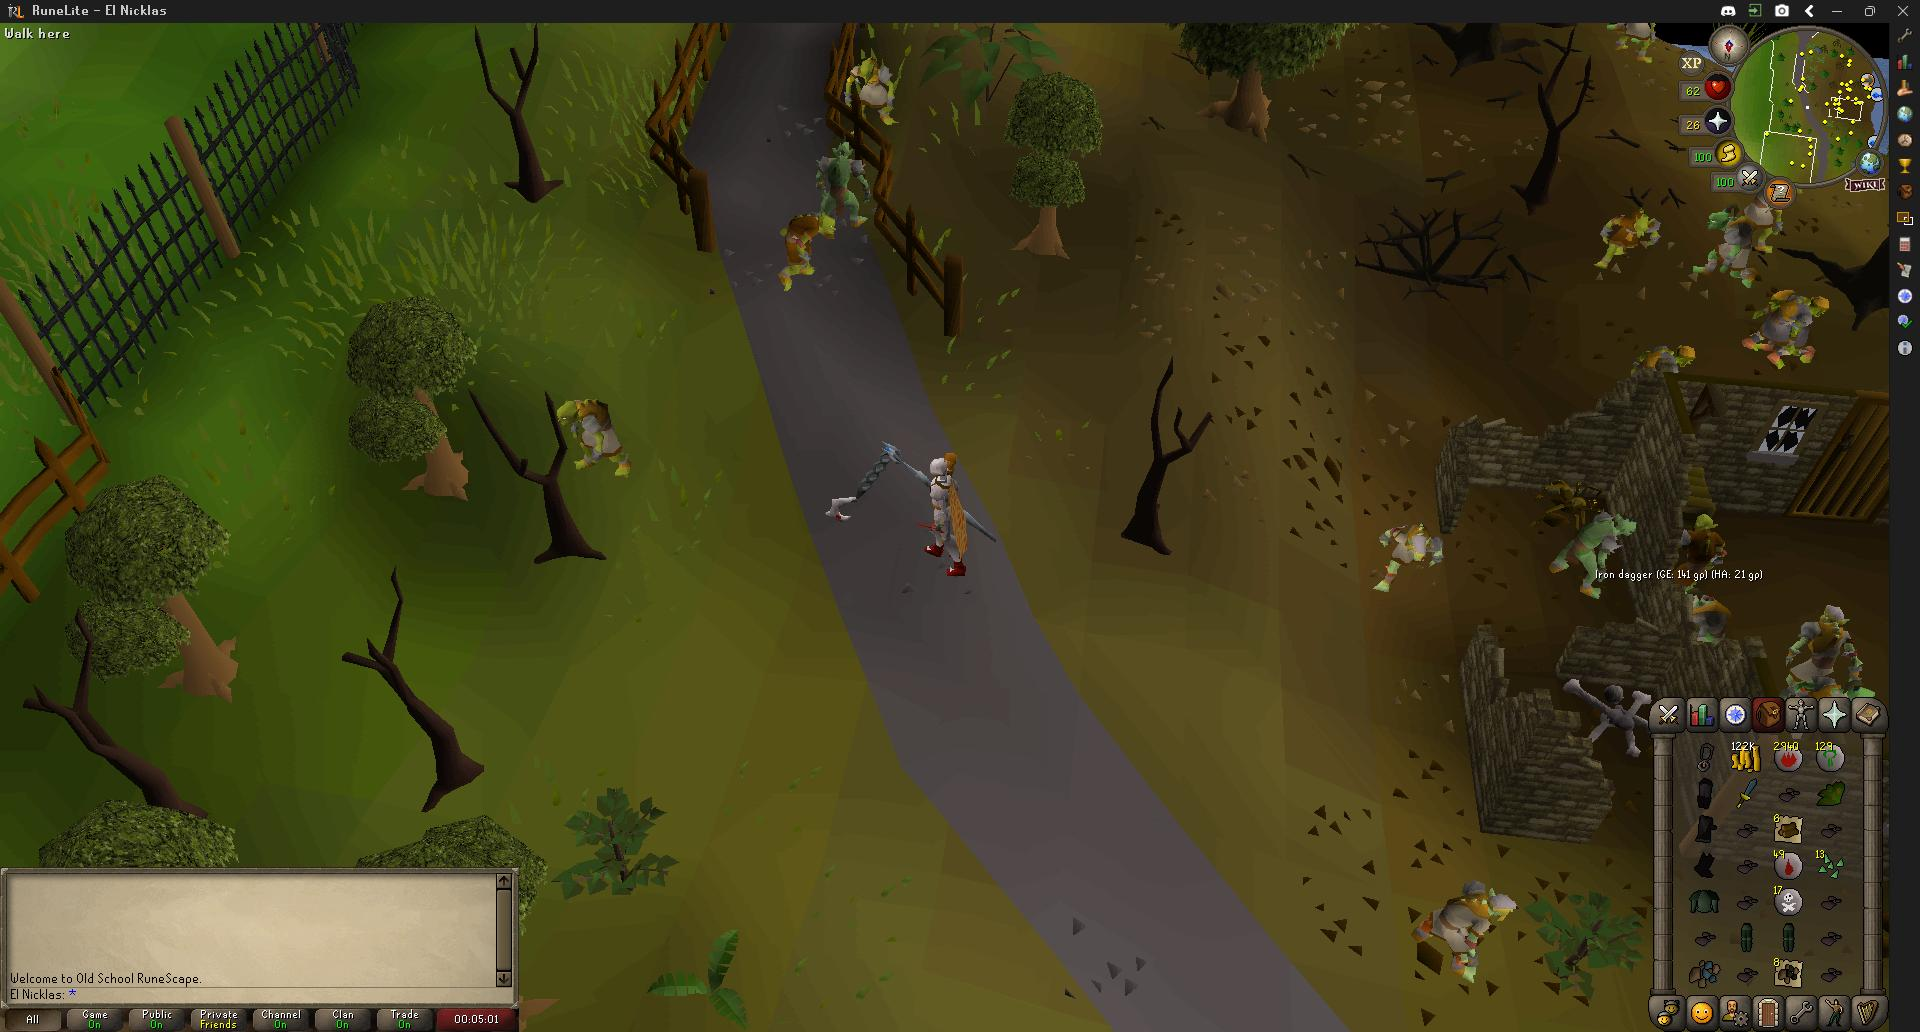goblin: (1412, 876, 1513, 977), (1684, 201, 1779, 294), (1549, 508, 1640, 594), (1784, 604, 1876, 681), (1738, 289, 1827, 367), (560, 397, 630, 477), (815, 140, 873, 231), (776, 210, 836, 294), (1592, 208, 1662, 278), (1374, 522, 1443, 592), (845, 50, 902, 125), (1673, 512, 1726, 580), (1686, 595, 1732, 642), (1612, 22, 1660, 65), (1632, 343, 1696, 374)
